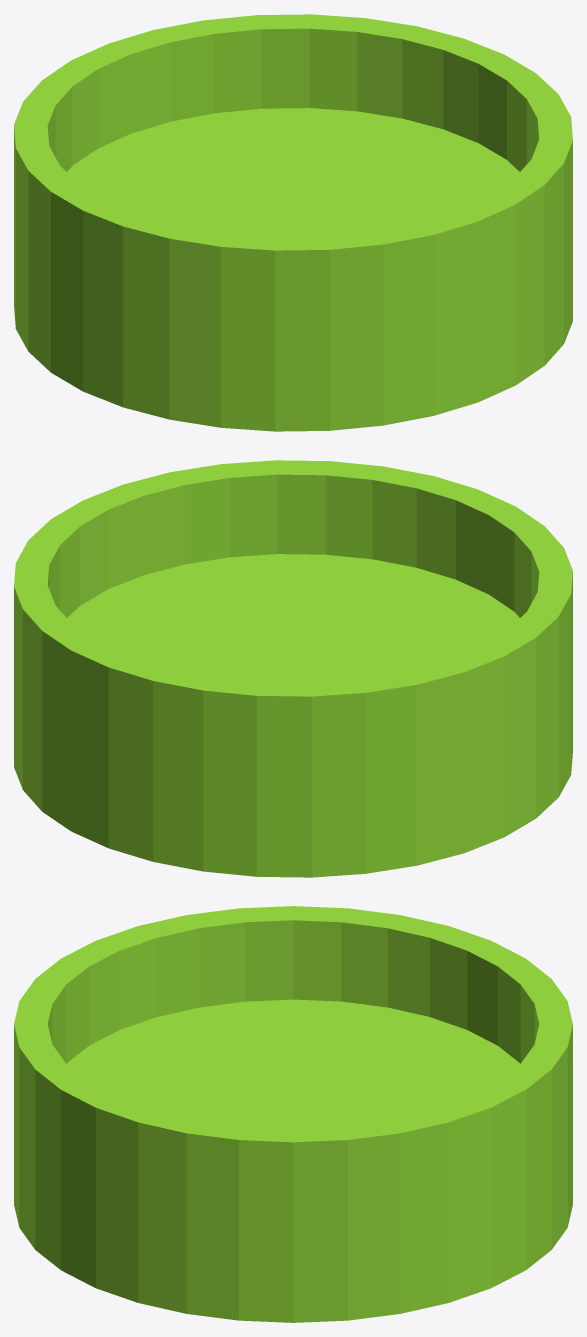
The model's file is Bucket.fbx.
3 views of the same model, one above another, from view 1: azimuth 30°, elevation 25°; view 2: azimuth 150°, elevation 25°; view 3: azimuth 270°, elevation 25° (orthographic).
Visible parts, largest first — view 1: Cylinder; view 2: Cylinder; view 3: Cylinder.
Boxes of the visible parts, x1,y1,x2,y2 form: Cylinder: [14, 14, 572, 431]; Cylinder: [14, 460, 572, 877]; Cylinder: [14, 906, 572, 1322].
Bounding box in the file's own units: 229 × 81.67 × 229.
